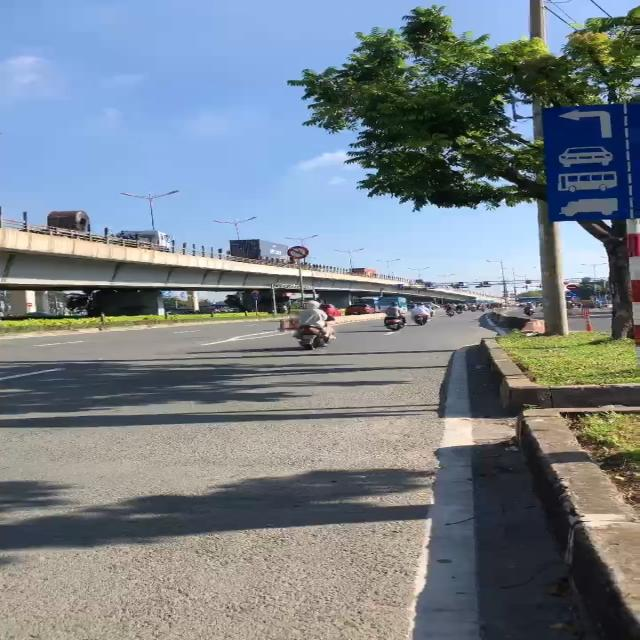Bien bao cam xe may: (284, 245, 309, 263)
